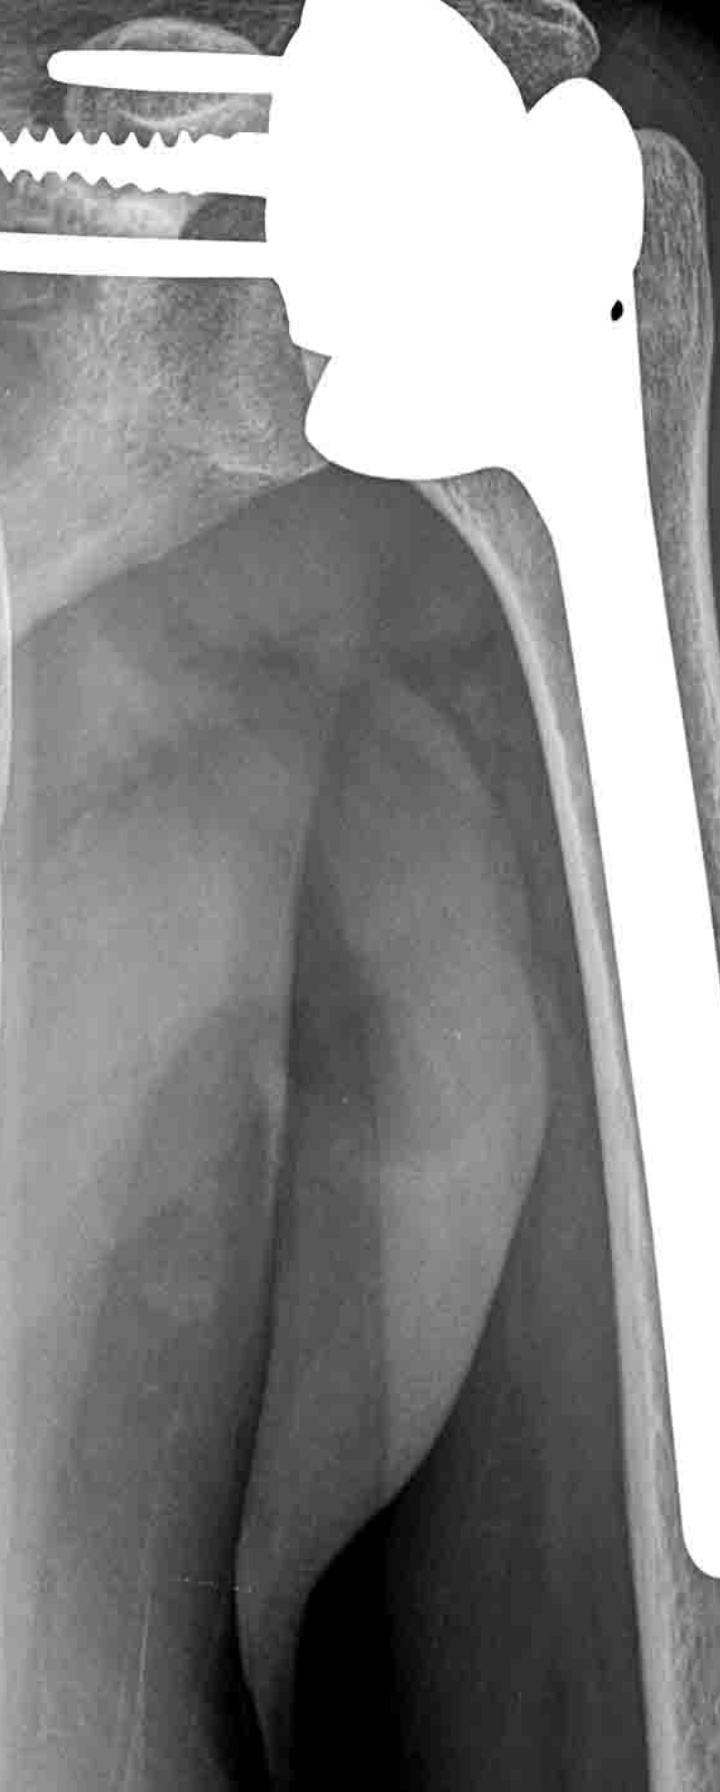Shoulder-Reverse-DJO: (1, 1, 714, 1613)
